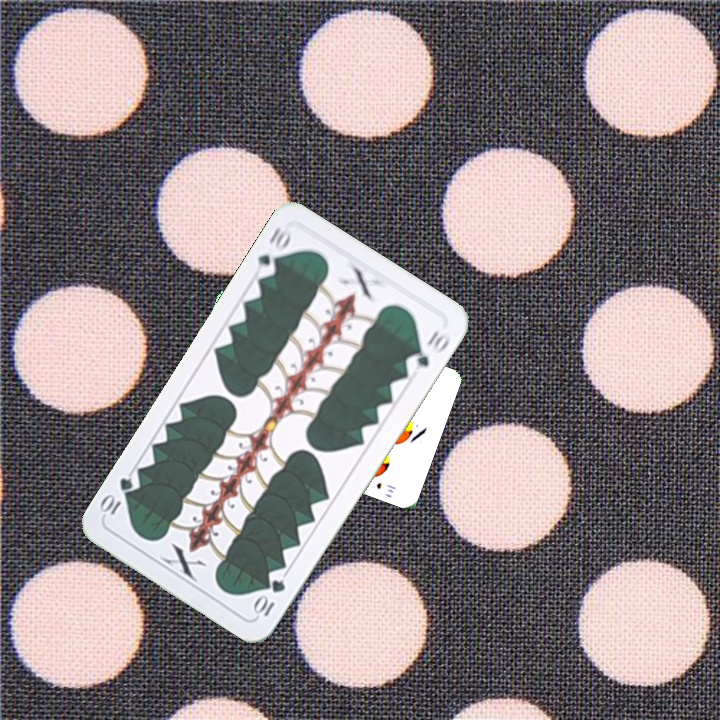G10: (251, 223, 294, 281), (250, 575, 288, 620)
